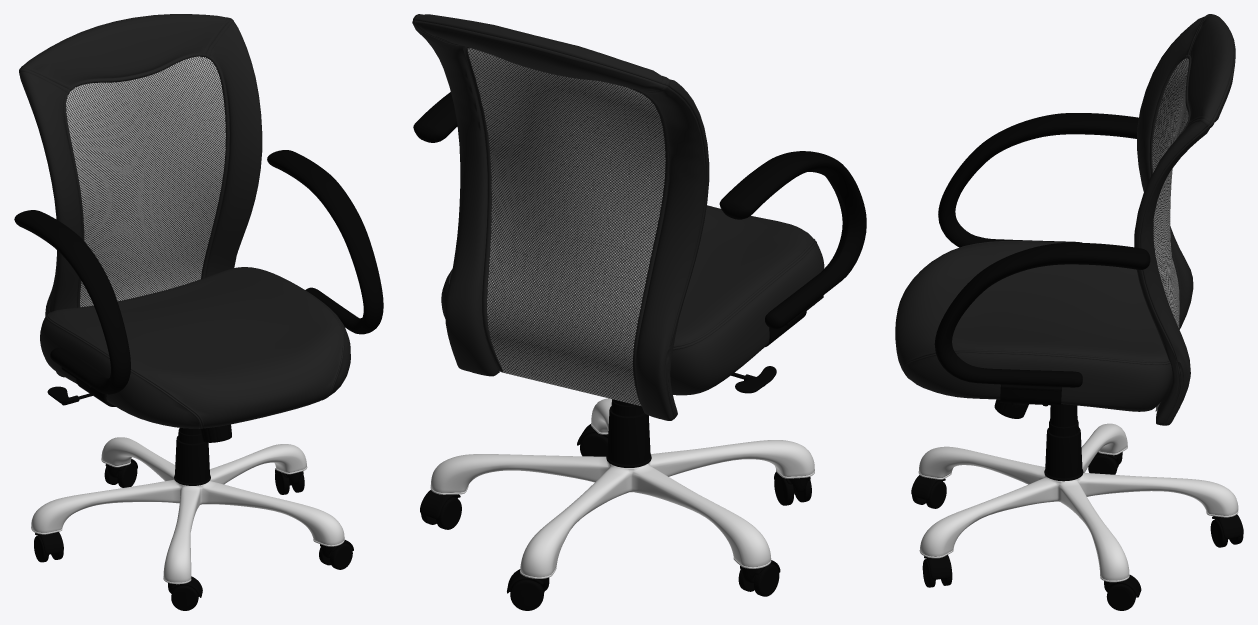
3 views of the same model, side by side, from view 1: azimuth 30°, elevation 25°; view 2: azimuth 150°, elevation 25°; view 3: azimuth 270°, elevation 25° (orthographic). The views are drawn at different scales.
Parts seen in each view (by area): view 1: Box02, Box01, Rectangle02, Line04, Line05, Cylinder01, Cylinder22, Cylinder19, Cylinder25; view 2: Box02, Box01, Rectangle02, Line04, Cylinder01, Line05, Cylinder25, Cylinder24, Cylinder02, Cylinder22, Circle01, Cylinder04; view 3: Box01, Box02, Rectangle02, Line05, Line04, Cylinder01, Rectangle11, Cylinder02, Cylinder22, Cylinder24, Cylinder20, Cylinder26.
Boxes of the visible parts, box(x1,y1,x2,y2) form: Box02: box(19, 14, 262, 377); Box01: box(40, 267, 350, 428); Rectangle02: box(31, 437, 344, 584); Line04: box(14, 210, 130, 394); Line05: box(267, 150, 383, 334); Cylinder01: box(174, 428, 210, 485); Cylinder22: box(171, 585, 198, 610); Cylinder19: box(319, 543, 352, 569); Cylinder25: box(104, 462, 137, 487); Box02: box(412, 14, 709, 420); Box01: box(441, 205, 824, 395); Rectangle02: box(430, 398, 814, 578); Line04: box(719, 151, 866, 329); Cylinder01: box(606, 399, 651, 467); Line05: box(413, 92, 457, 142); Cylinder25: box(510, 579, 544, 610); Cylinder24: box(738, 563, 779, 596); Cylinder02: box(421, 497, 461, 529); Cylinder22: box(774, 473, 811, 505); Circle01: box(735, 366, 776, 393); Cylinder04: box(420, 490, 460, 518); Box01: box(895, 240, 1172, 411); Box02: box(1134, 14, 1235, 425); Rectangle02: box(918, 423, 1238, 582); Line05: box(934, 242, 1150, 387); Line04: box(938, 113, 1138, 247); Cylinder01: box(1044, 404, 1083, 481); Rectangle11: box(1000, 384, 1061, 405); Cylinder02: box(1106, 584, 1136, 610); Cylinder22: box(912, 480, 946, 508); Cylinder24: box(1088, 454, 1118, 474); Cylinder20: box(924, 555, 951, 579); Cylinder26: box(1212, 514, 1243, 539).
Bounding box in the file's own units: 63.77 × 102 × 65.2.
5 materials, 1 textured.
